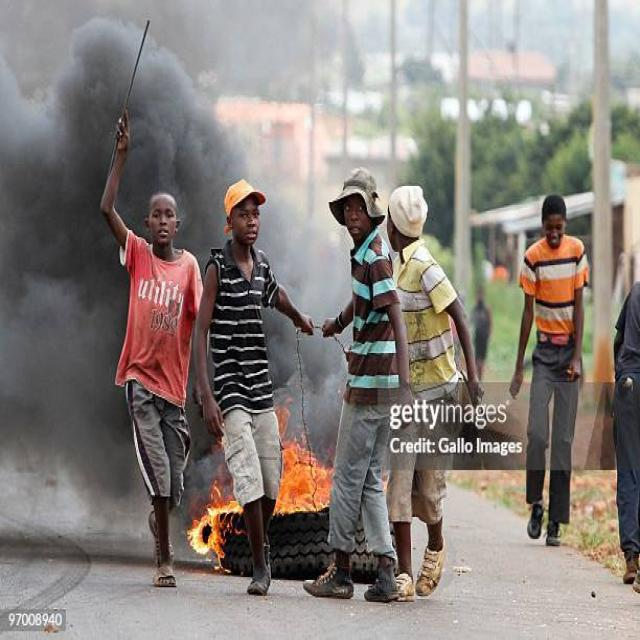fire: (275, 435, 331, 515), (187, 486, 243, 558)
